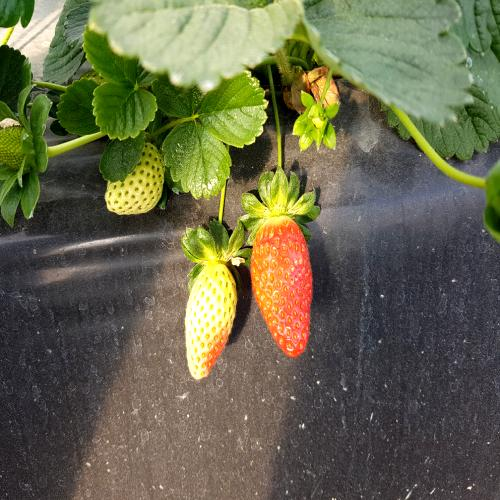partially-ripe: (183, 242, 238, 390)
ripe: (240, 204, 327, 370)
